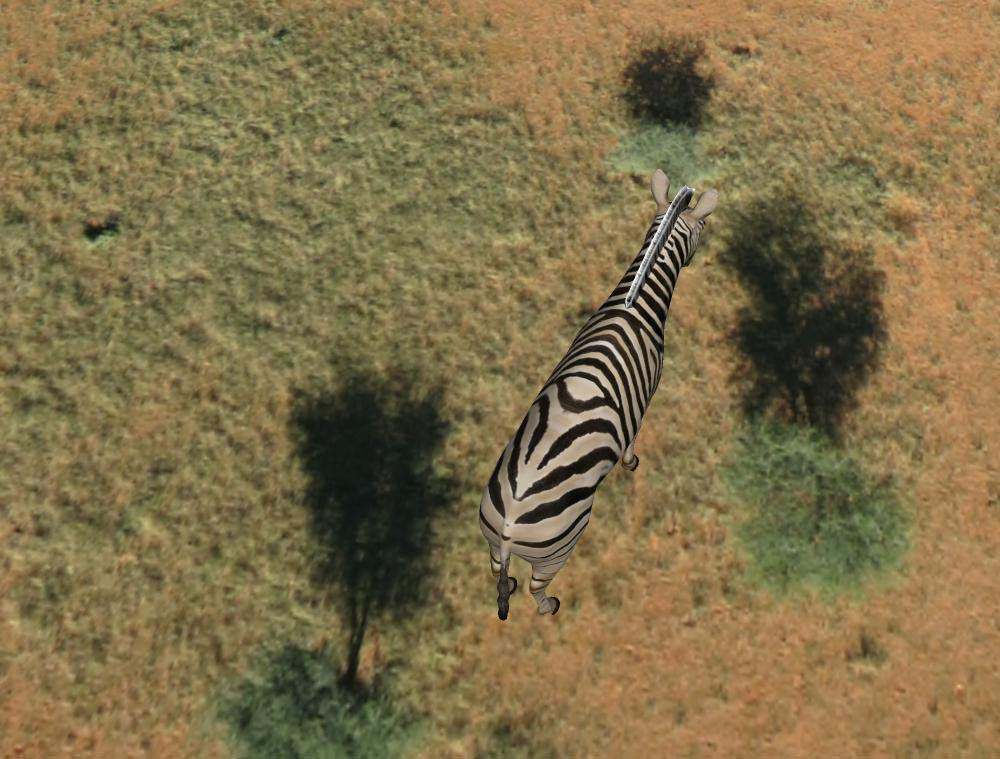zebra: (477, 167, 712, 627)
